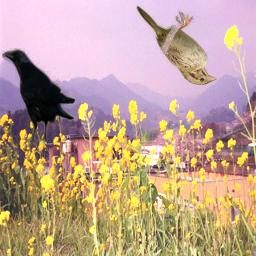Crow: (2, 48, 75, 148)
Sparrow: (136, 5, 217, 85)
